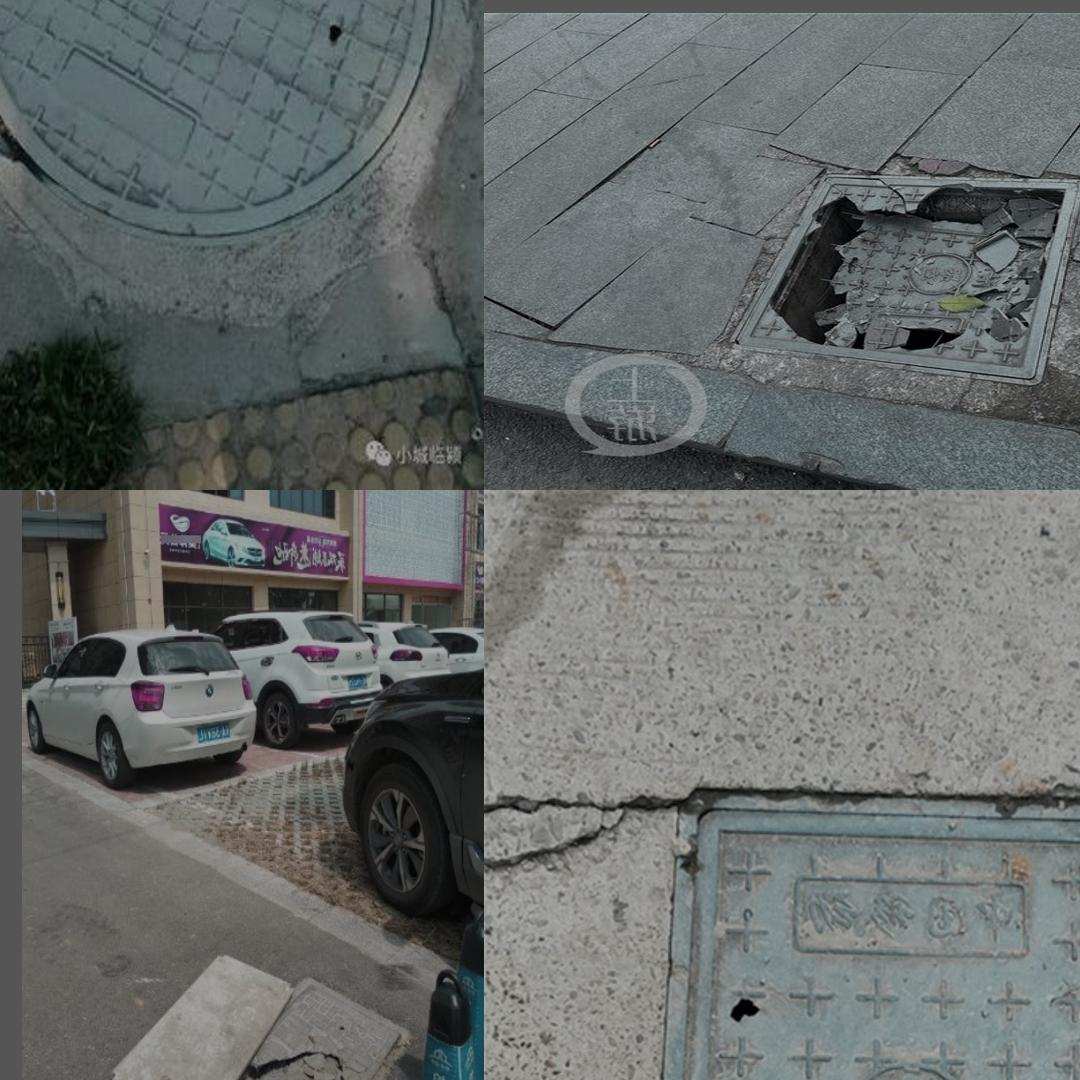broke: (0, 0, 461, 297), (639, 792, 1080, 1080), (688, 158, 1080, 395), (172, 1018, 407, 1080)
